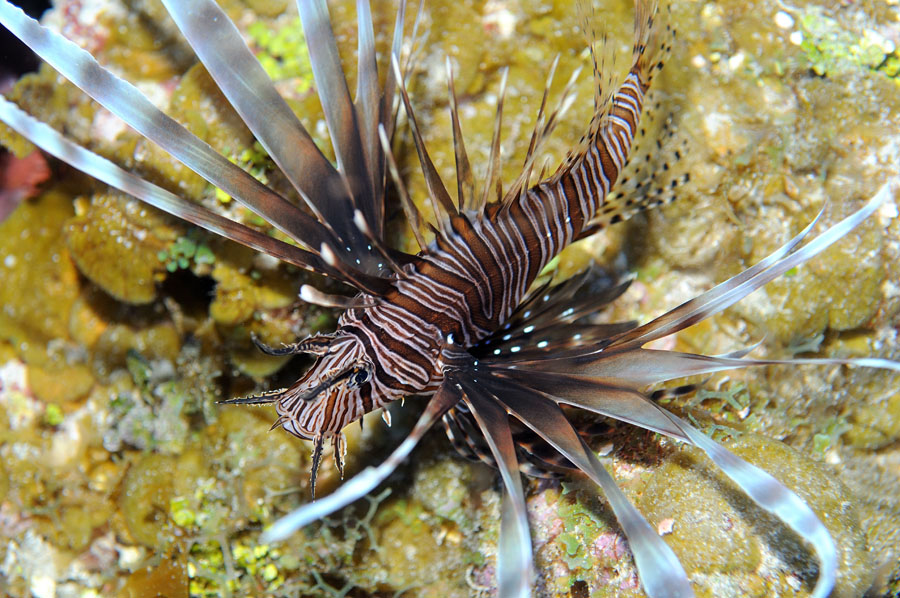Pterois_volitans: (41, 6, 787, 565)
